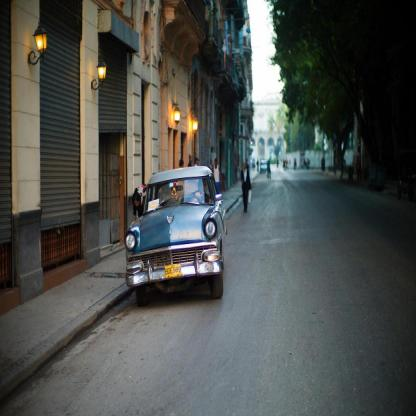Car: (121, 167, 230, 309)
